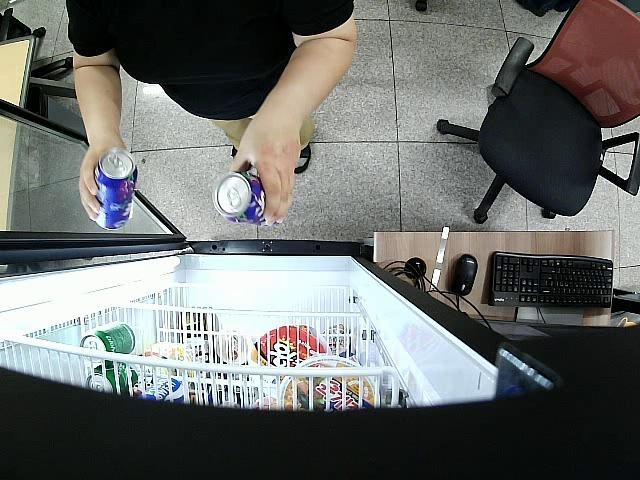14_welchsGrape: (94, 149, 137, 230), (214, 173, 266, 224)
